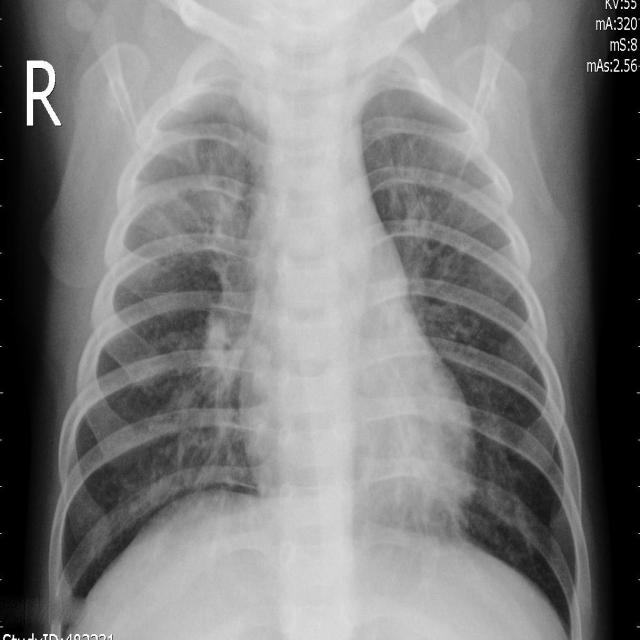low-pneumonia: (147, 98, 263, 264), (171, 266, 259, 448), (391, 195, 465, 329)
